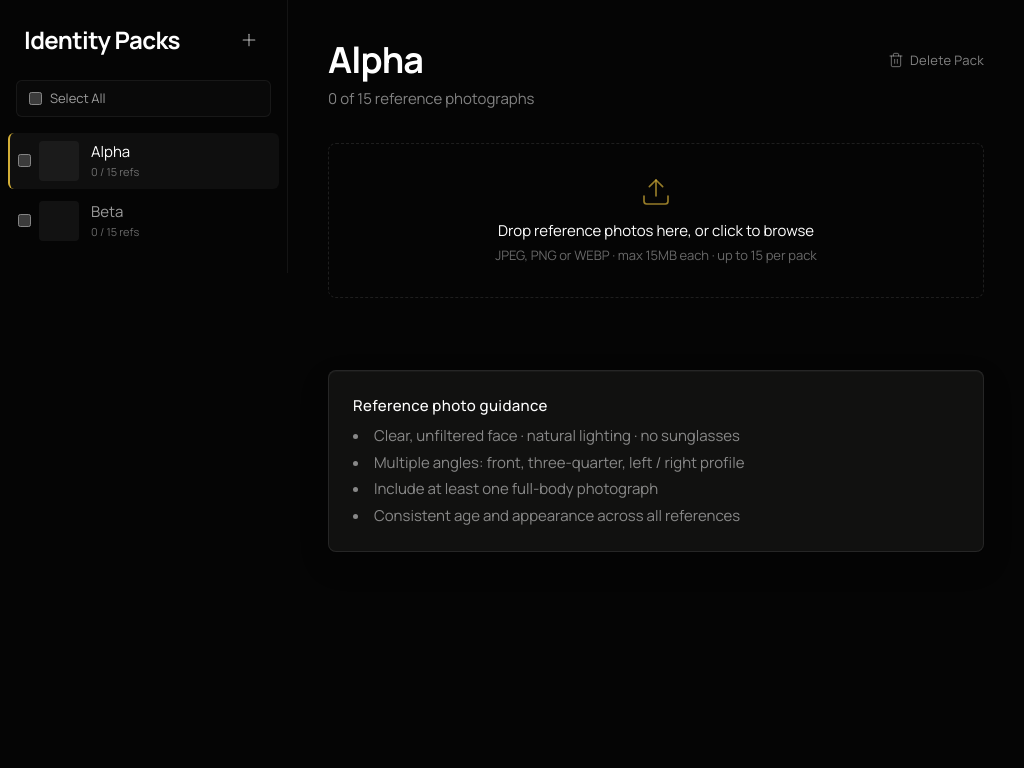
Test case: Identity Packs recovery › preserves failed packs and reports partial deletion failures
Click the checkbox with test id "select-all-packs".
click(36, 98)  # box x1=29 y1=92 x2=42 y2=105
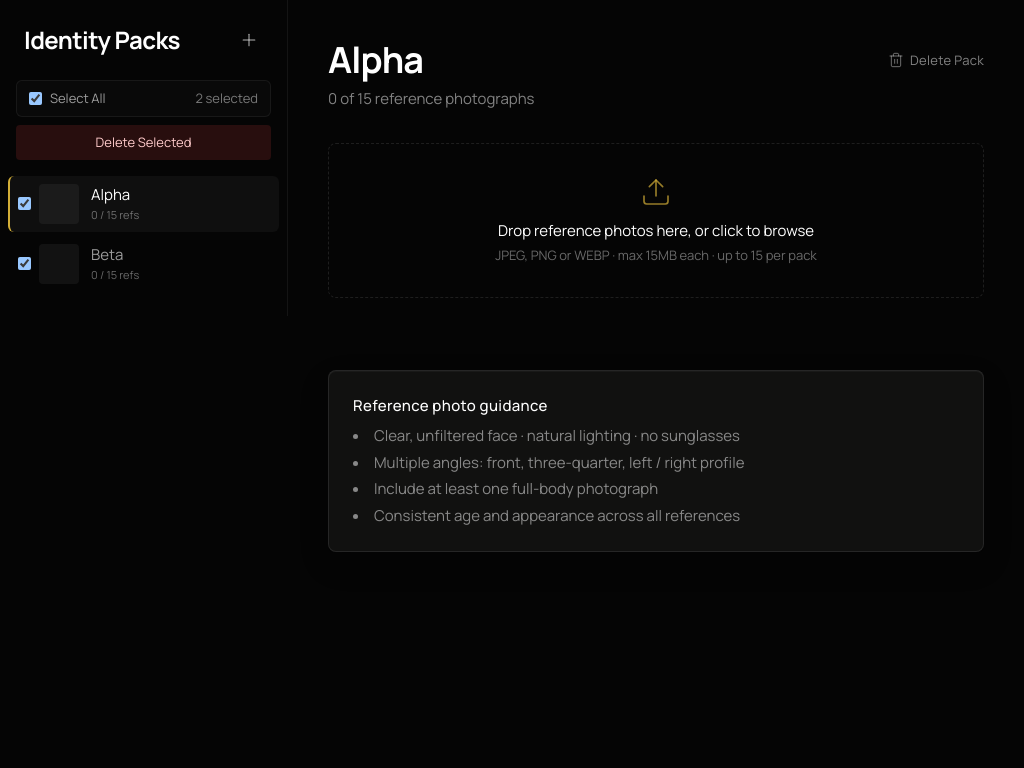
Click the button with test id "delete-selected-packs".
click(144, 142)  # box x1=16 y1=125 x2=271 y2=160
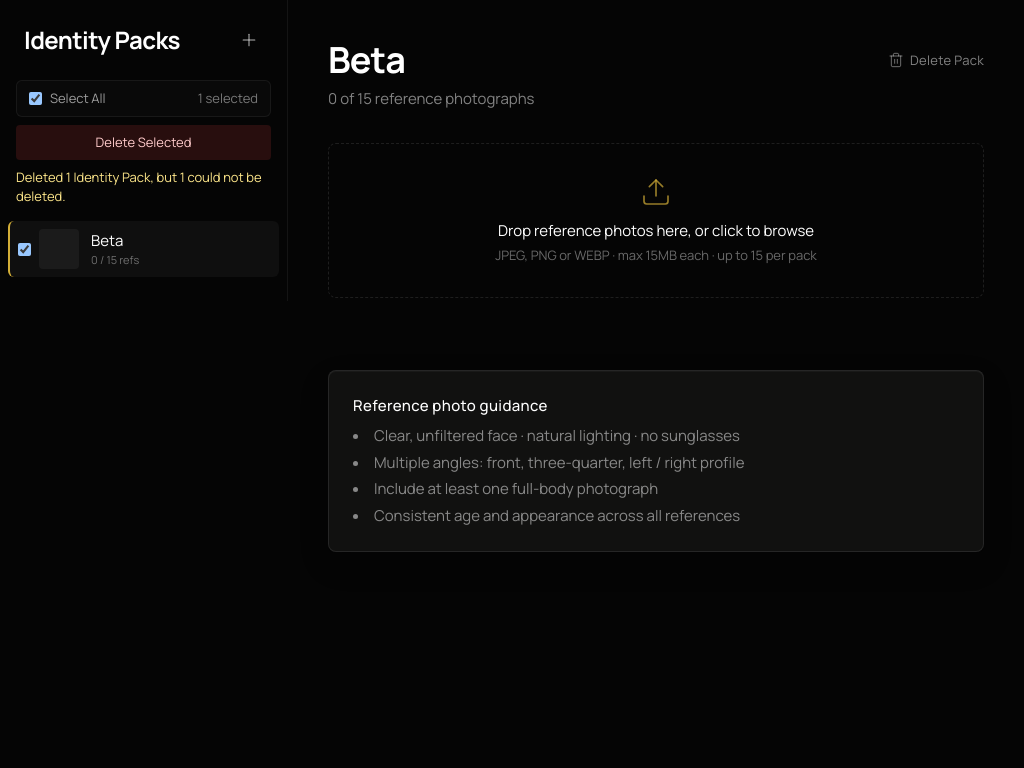
Now the checkbox with test id "select-pack-beta" is checked, box x1=18 y1=243 x2=31 y2=256
Now the element with test id "pack-item-alpha" is gone
Now the message with test id "bulk-delete-result" shows "1 could not be deleted", box x1=16 y1=168 x2=262 y2=204
